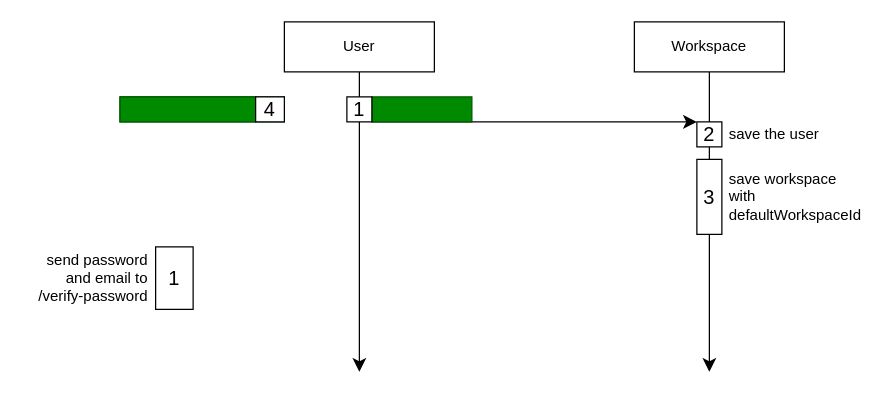
Image size: 890x393. Some labels were removed from this diagram. The shapes that lost their labels are listed below. From the top down, each one's centre as x and y in pixels, then its label:
At point (187, 109): "workspace.created".
At point (421, 109): "user.created".
